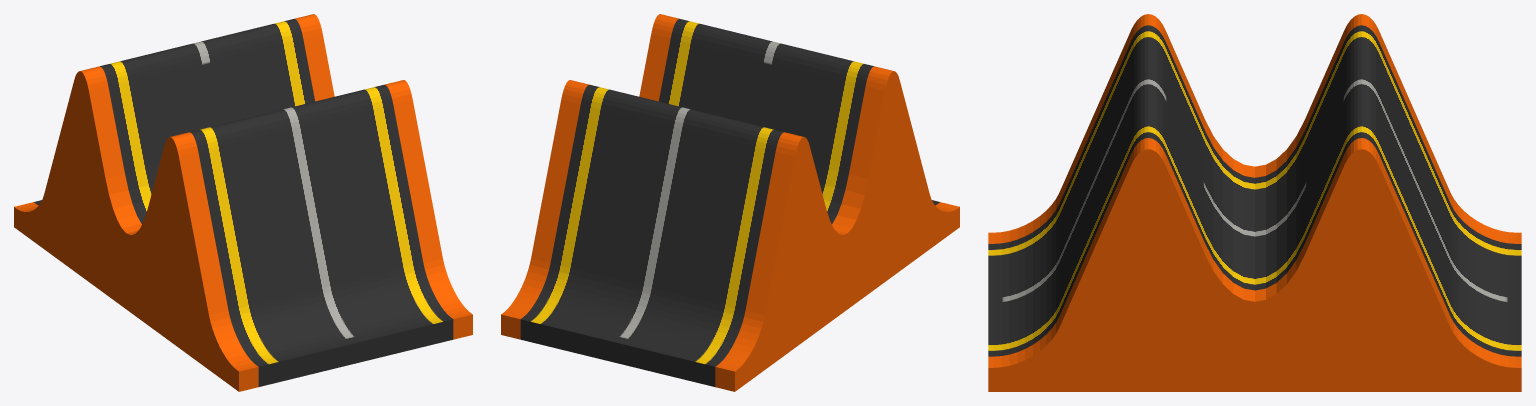
The model's file is Track05.fbx.
3 renders of one model, left to right at view 1: azimuth 30°, elevation 25°; view 2: azimuth 150°, elevation 25°; view 3: azimuth 270°, elevation 25°, orthographic. The views are drawn at different scales.
Visible parts, largest first — view 1: Track5; view 2: Track5; view 3: Track5.
Boxes of the visible parts, left/top/right/bottom form: Track5: left=14, top=14, right=472, bottom=391; Track5: left=501, top=14, right=959, bottom=391; Track5: left=988, top=14, right=1521, bottom=391.
Size of the model in its own units: 1200 by 1005 by 2000.
